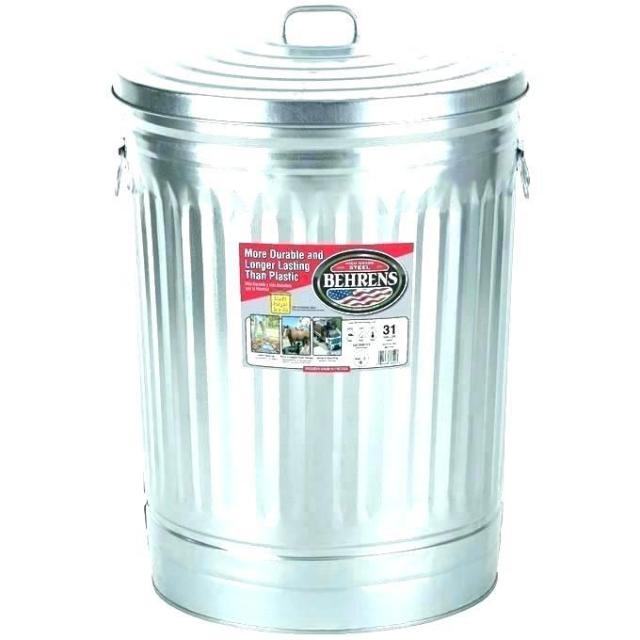metel: (106, 2, 523, 632)
